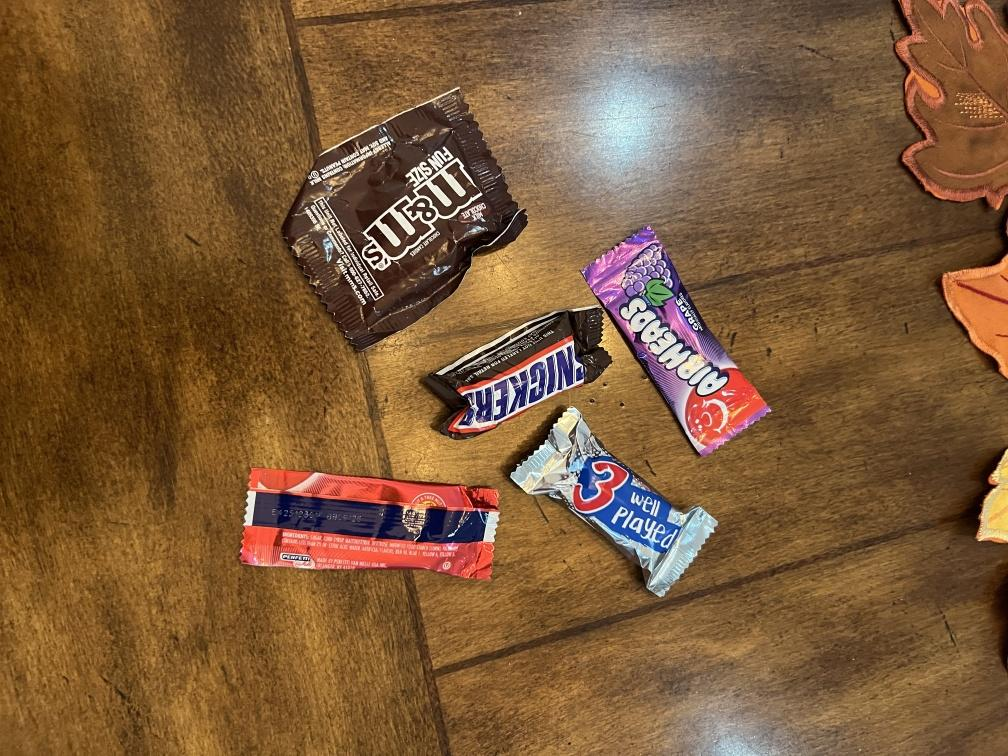MM_regular: (279, 86, 528, 345)
Snickers: (423, 307, 598, 439)
airheads: (584, 228, 774, 453), (241, 469, 503, 579)
musketeers: (514, 410, 712, 595)
